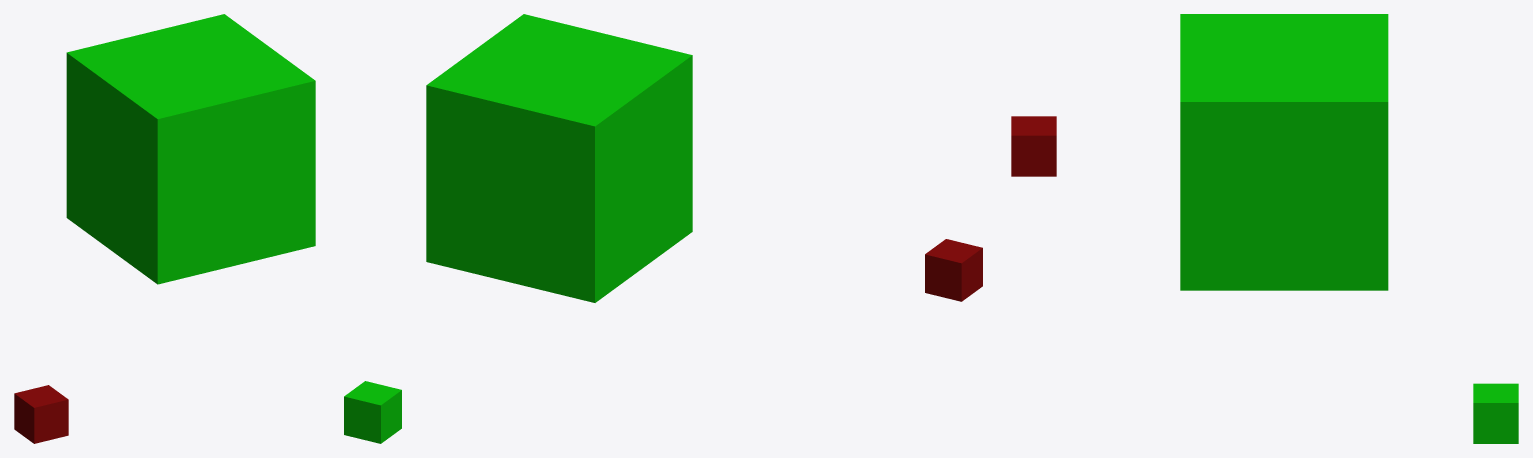
The model's file is cubesagain2.obj.
3 renders of one model, left to right at view 1: azimuth 30°, elevation 25°; view 2: azimuth 150°, elevation 25°; view 3: azimuth 270°, elevation 25°, orthographic. The views are drawn at different scales.
Parts seen in each view (by area): view 1: Cube.001, light_0.2_0.2_0.2_25_solid_2; view 2: Cube.001, light_0.2_0.2_0.2_25_solid_2, light_0.2_0.2_0.2_35_solid; view 3: Cube.001, light_0.2_0.2_0.2_35_solid, light_0.2_0.2_0.2_25_solid_2.
Part boxes in pixels (box(x1,y1,x2,y2)): Cube.001: box(66, 14, 315, 284); light_0.2_0.2_0.2_25_solid_2: box(14, 385, 68, 443); Cube.001: box(426, 14, 692, 302); light_0.2_0.2_0.2_25_solid_2: box(925, 239, 982, 301); light_0.2_0.2_0.2_35_solid: box(344, 381, 401, 443); Cube.001: box(1180, 14, 1388, 290); light_0.2_0.2_0.2_35_solid: box(1473, 383, 1518, 443); light_0.2_0.2_0.2_25_solid_2: box(1011, 116, 1056, 176).
Size of what is drawn, in the model's own units: 4.75 by 3.51 by 4.88.
